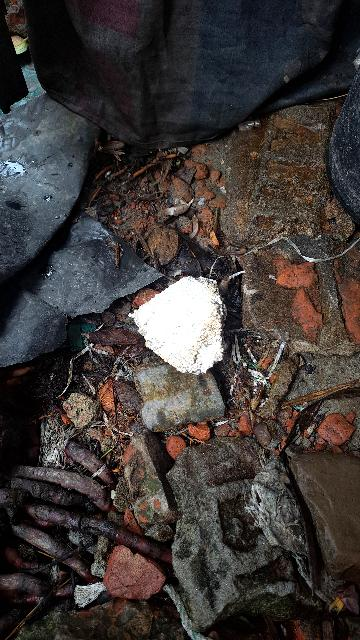cocksheet: (129, 263, 246, 393)
